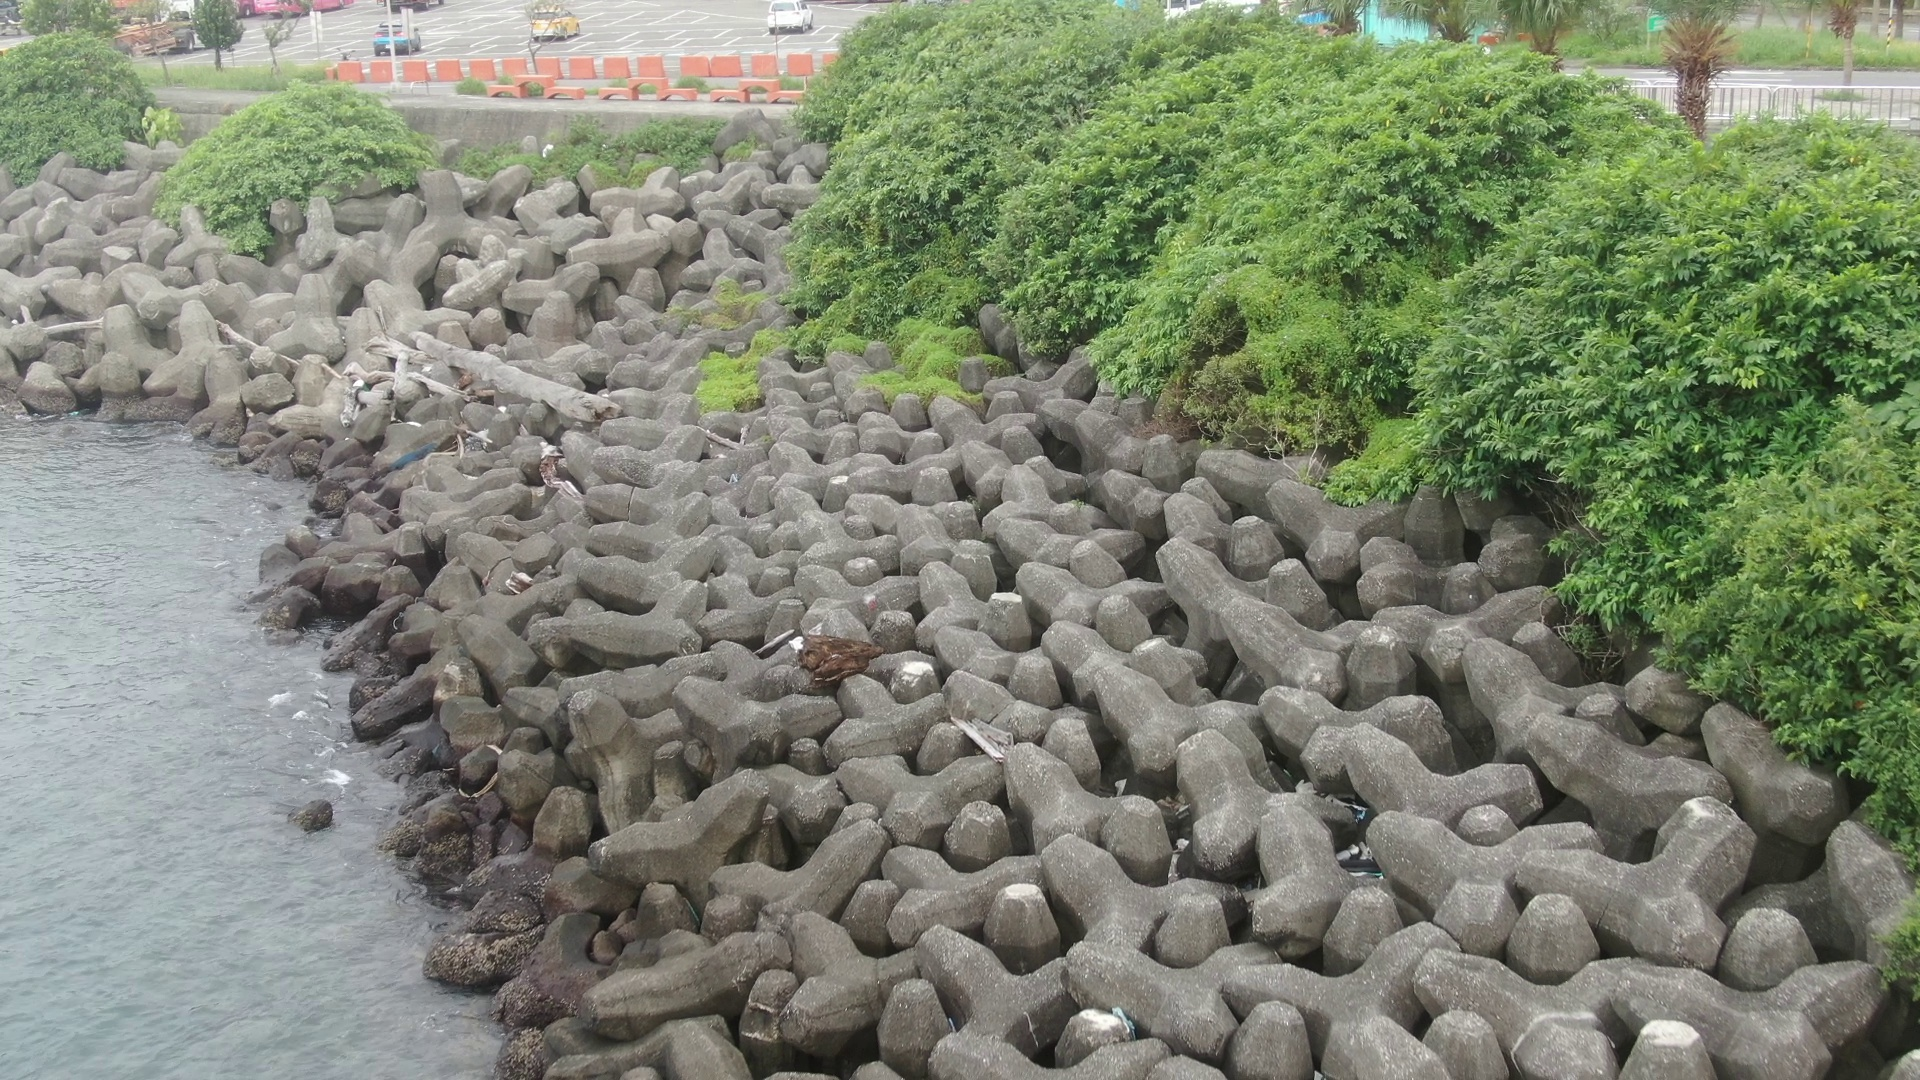garbage: (1146, 779, 1218, 890), (1320, 777, 1386, 891), (367, 427, 448, 476), (1105, 996, 1146, 1042)
